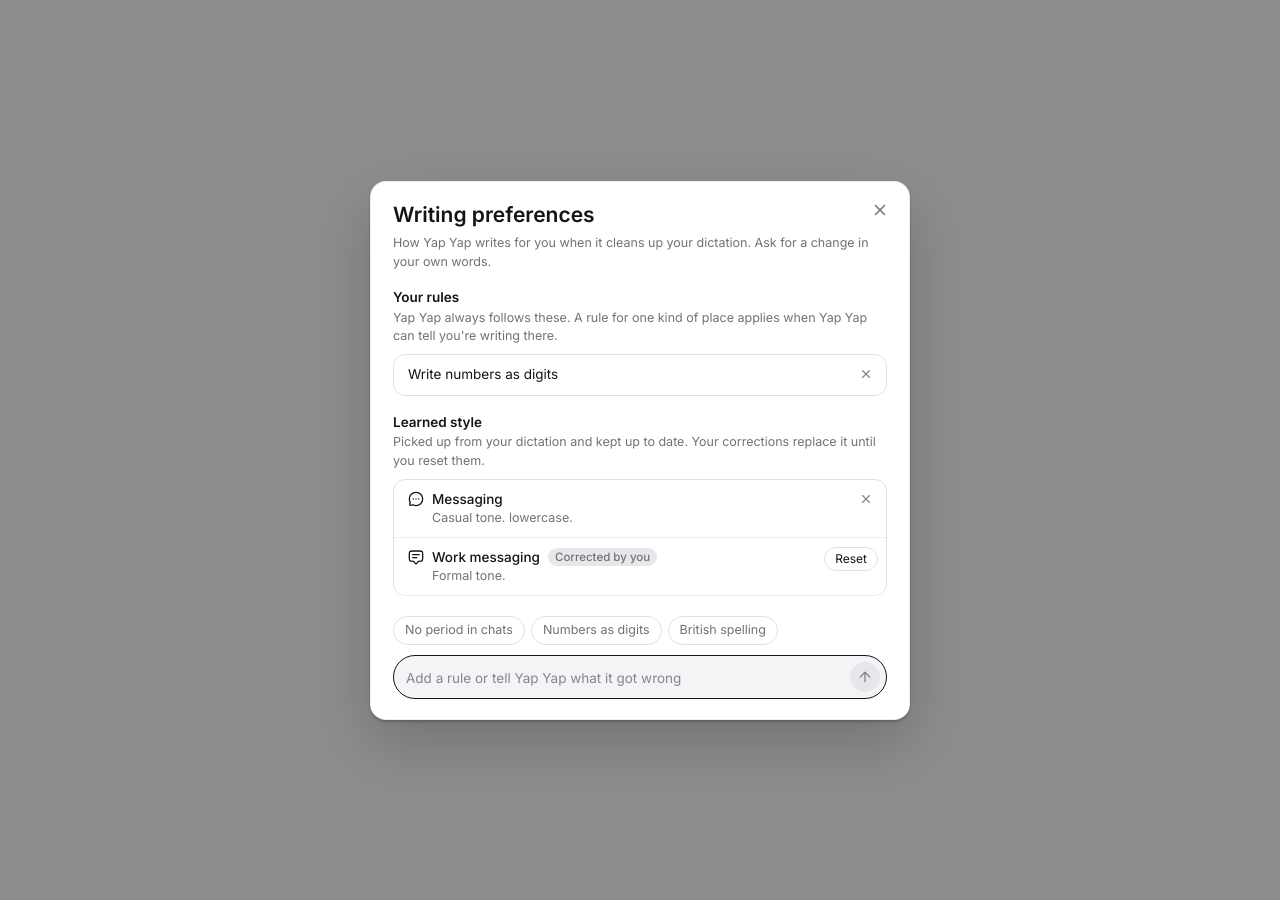
Scenario: Writing preferences editor › lets a picked style with no dictations be reset but not forgotten
Click the button with aria-label "Remove the Work messaging style you set". click: (851,559)
box: [824,547,878,571]
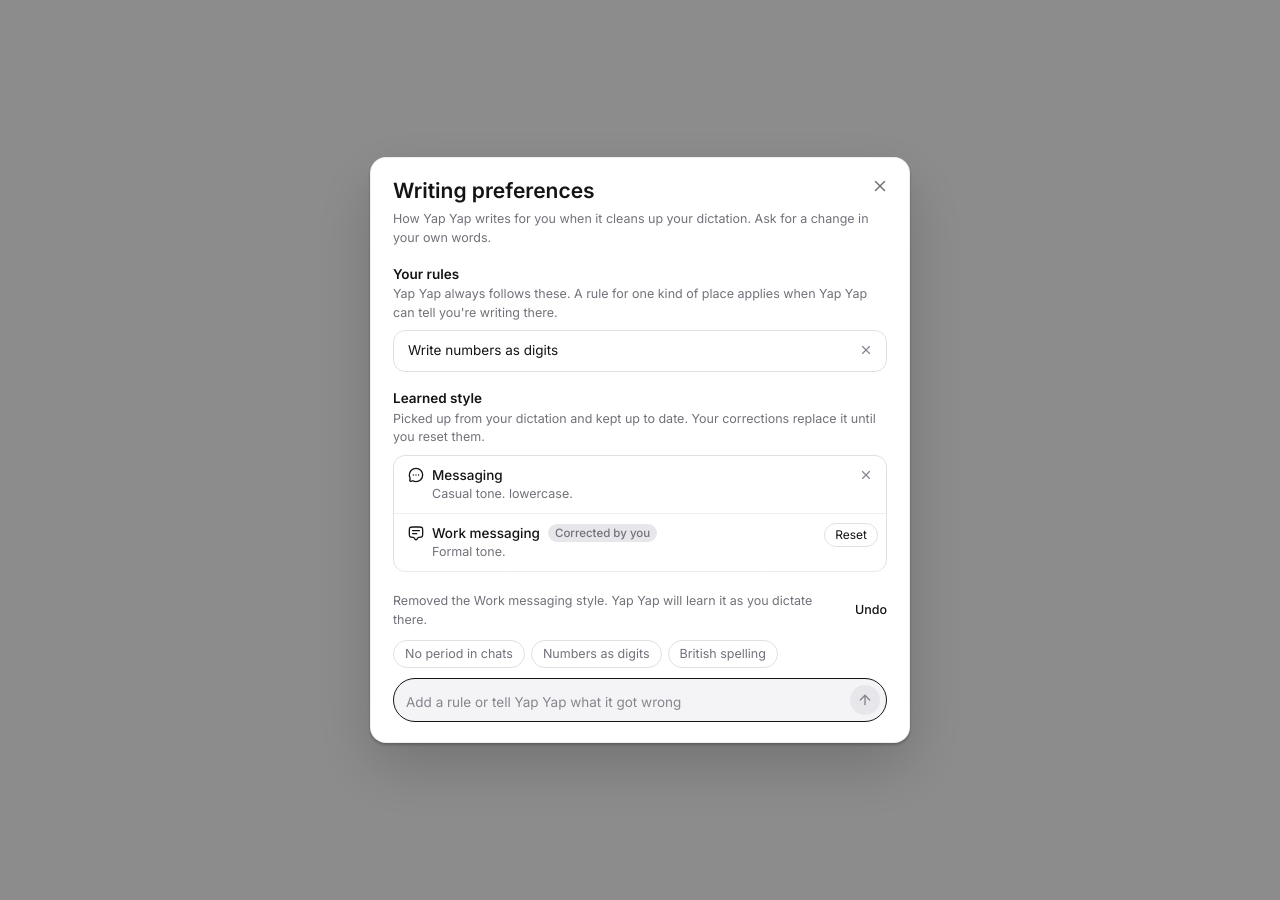
Result: the message shows "Removed the Work messaging style." at [393,593,812,627]
